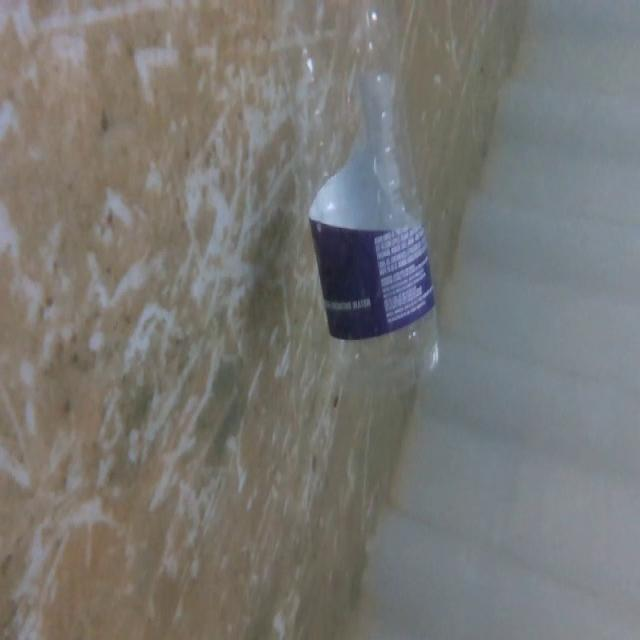plastic bottle: (273, 1, 451, 387)
